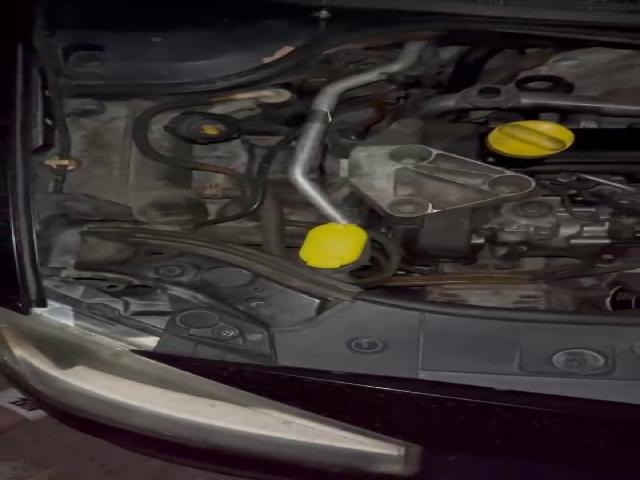antifreeze_tank: (64, 99, 210, 230), (141, 112, 238, 160)
